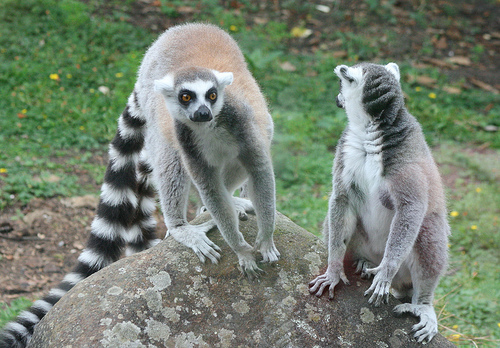cat: (1, 20, 284, 347), (309, 63, 448, 345)
